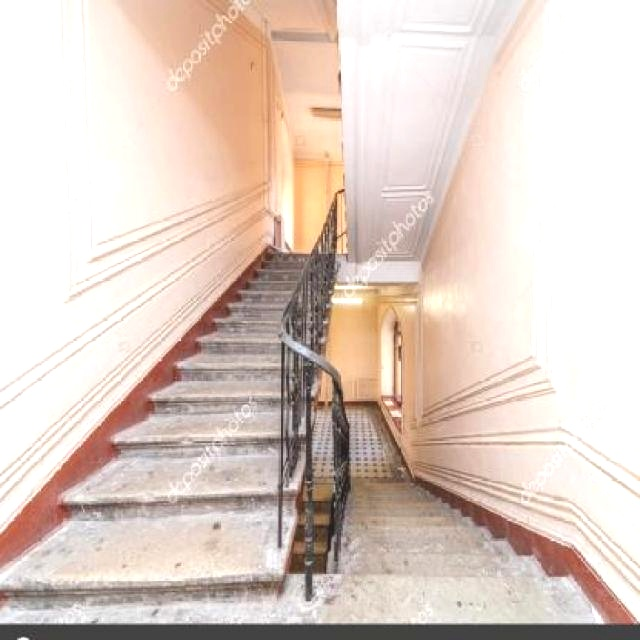stair: (0, 119, 622, 615)
